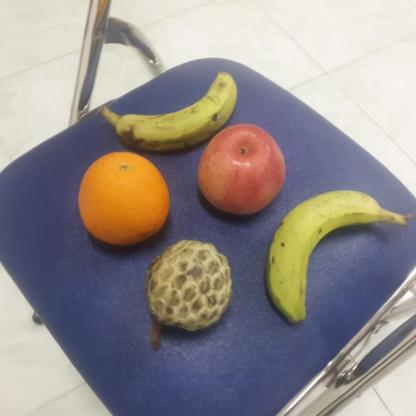annona: (142, 234, 233, 334)
apple: (194, 124, 287, 217)
banana: (265, 186, 388, 326), (112, 63, 238, 152)
orange: (75, 148, 171, 247)
